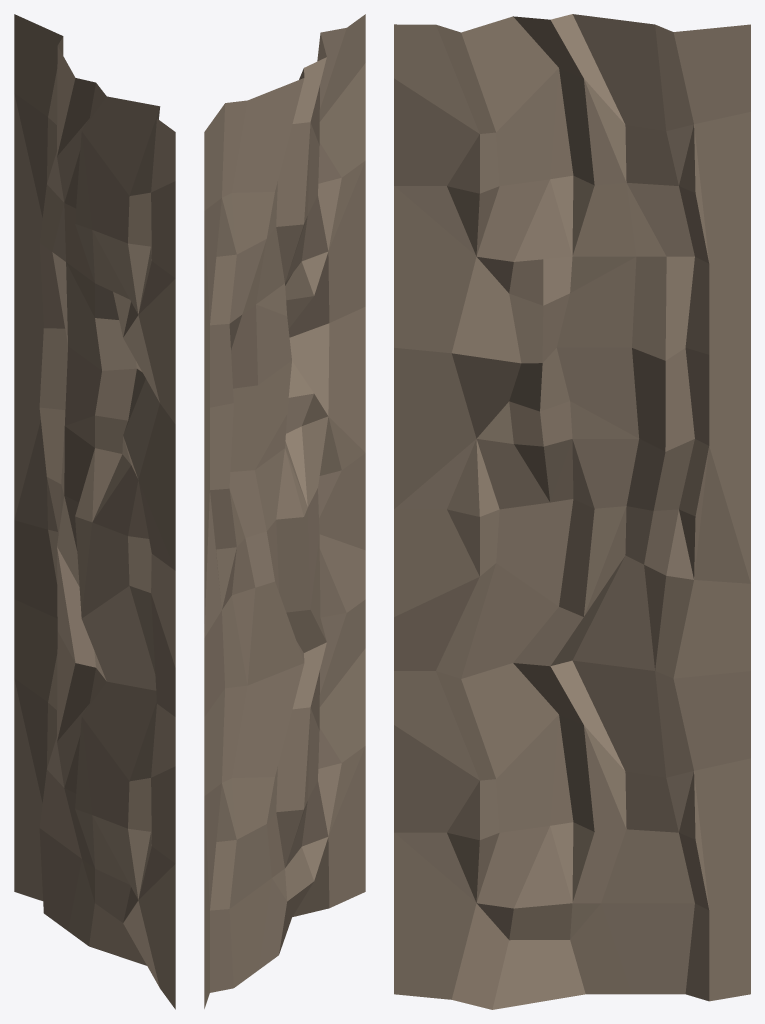
Rendered from ER_Terrain_3x1_Dirt_001_A.fbx.
3 views of the same model, side by side, from view 1: azimuth 30°, elevation 25°; view 2: azimuth 150°, elevation 25°; view 3: azimuth 270°, elevation 25° (orthographic). The views are drawn at different scales.
Parts seen in each view (by area): view 1: ER_Terrain_3x1_Dirt_001_A; view 2: ER_Terrain_3x1_Dirt_001_A; view 3: ER_Terrain_3x1_Dirt_001_A.
Boxes of the visible parts, x1,y1,x2,y2 form: ER_Terrain_3x1_Dirt_001_A: [14, 14, 175, 1009]; ER_Terrain_3x1_Dirt_001_A: [204, 14, 365, 1008]; ER_Terrain_3x1_Dirt_001_A: [394, 14, 750, 1009].
Size of the model in its own units: 0.1735 by 3 by 1.
